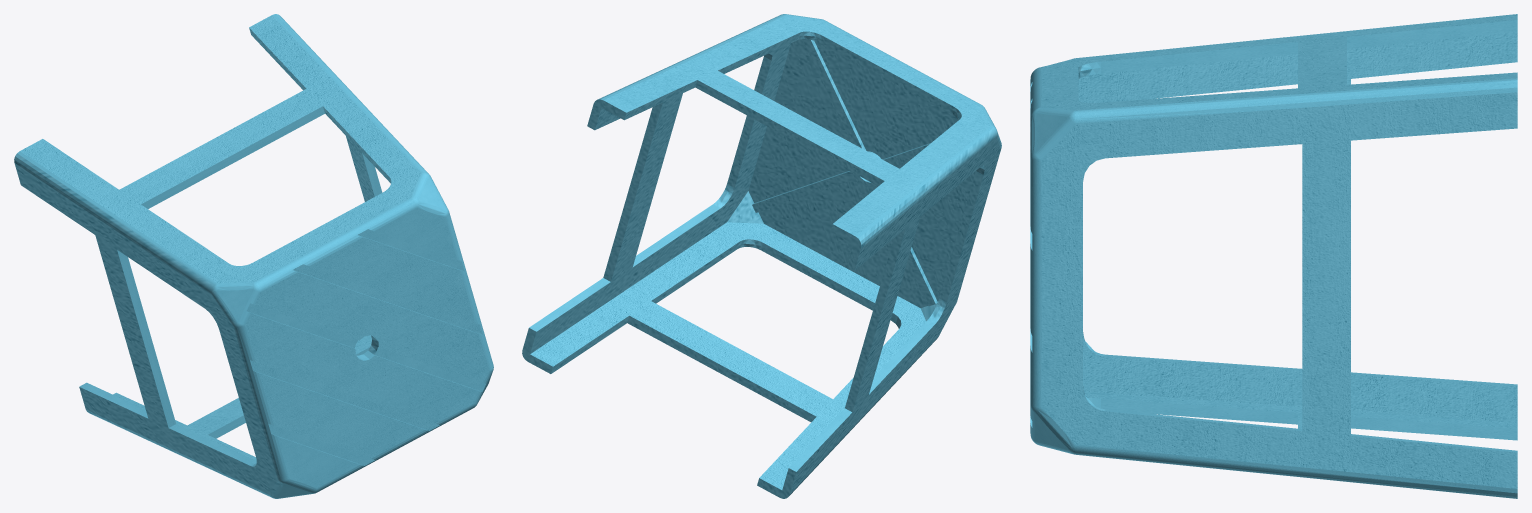
File: banco (color).dae
3 renders of one model, left to right at view 1: azimuth 30°, elevation 25°; view 2: azimuth 150°, elevation 25°; view 3: azimuth 270°, elevation 25°, orthographic. The views are drawn at different scales.
Parts seen in each view (by area): view 1: node; view 2: node; view 3: node.
Boxes of the visible parts, x1,y1,x2,y2 form: node: (14, 14, 493, 498); node: (522, 14, 1001, 498); node: (1030, 14, 1517, 498).
Bounding box in the file's own units: 427 × 427 × 400.
Materials: 1 (1 with a texture image).
